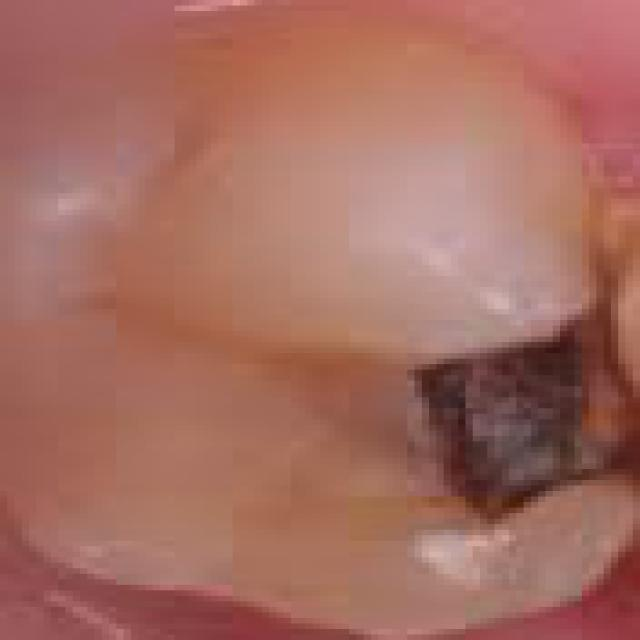Carrier: (390, 320, 632, 536)
